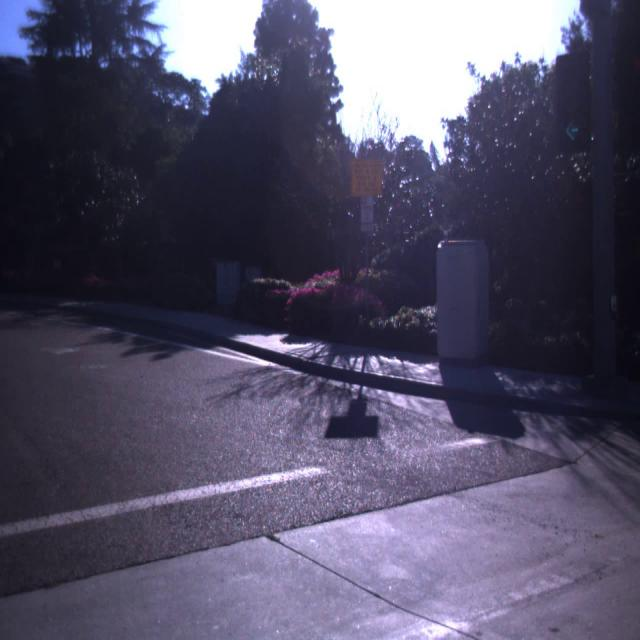yesil: (556, 57, 590, 152)
